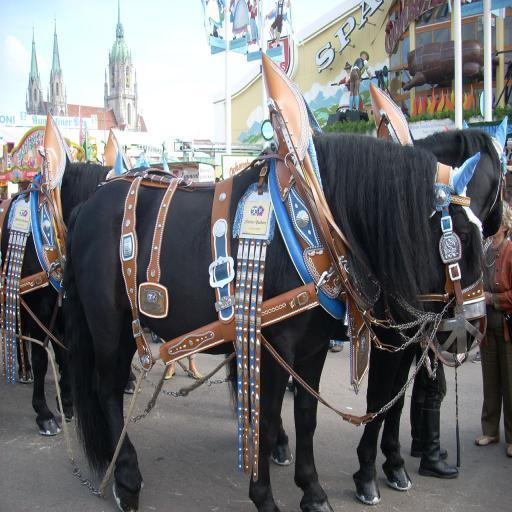horse: (64, 51, 488, 512), (222, 81, 508, 467), (0, 109, 128, 437)
